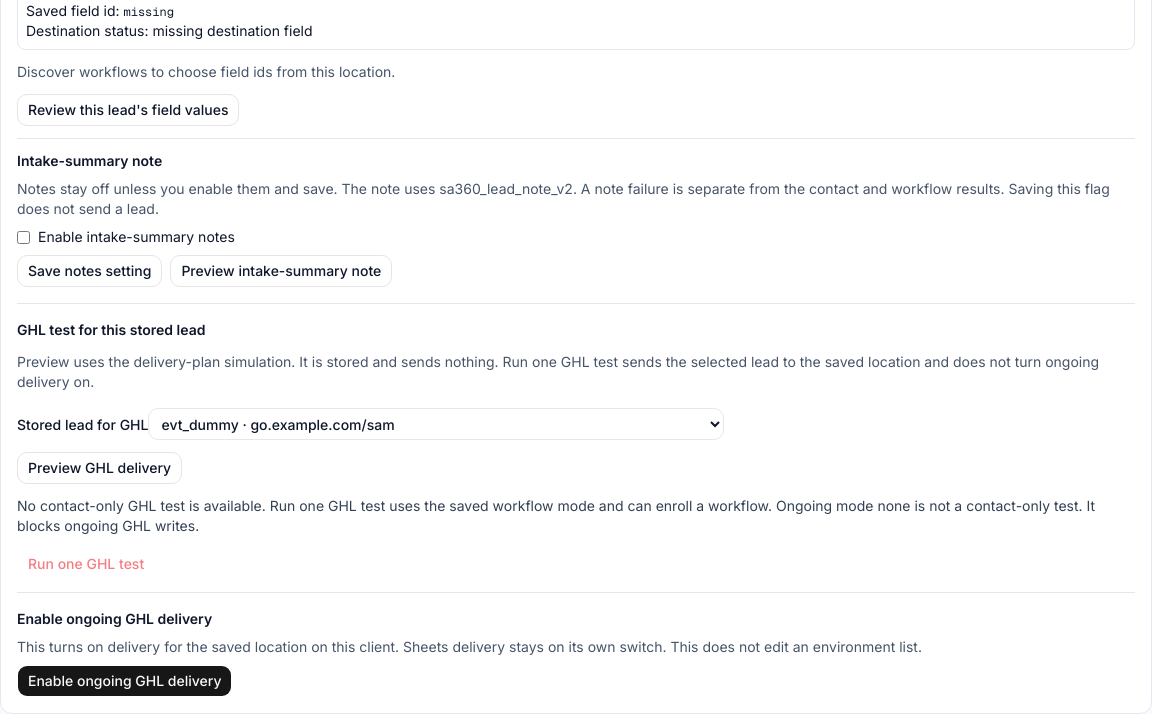
Test case: ongoing GHL activation is a separate confirmation and lists omitted fields
The width and height of the screenshot is (1152, 714).
(page scrolled)
Click the button "Enable ongoing GHL delivery" at (125, 681), box 17,665 -> 232,697
(page scrolled)
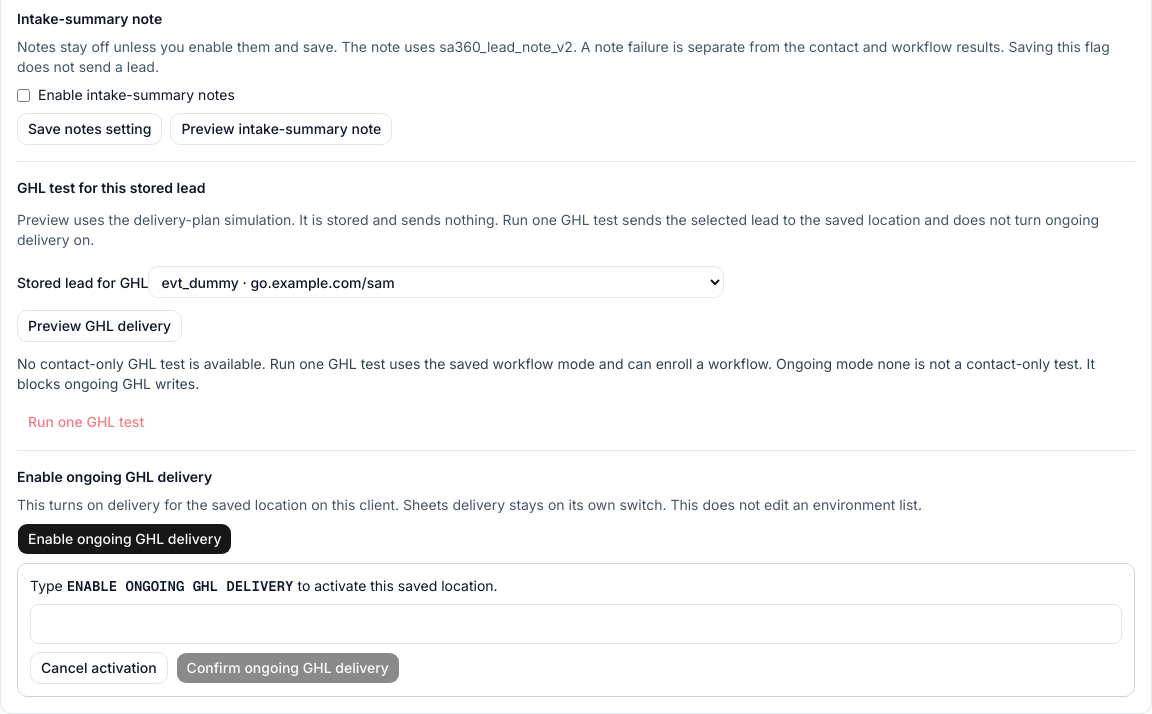
Type "ENABLE ONGOING GHL DELIVERY" into the field named "Ongoing GHL confirmation" at (576, 624), box 30,604 -> 1122,644
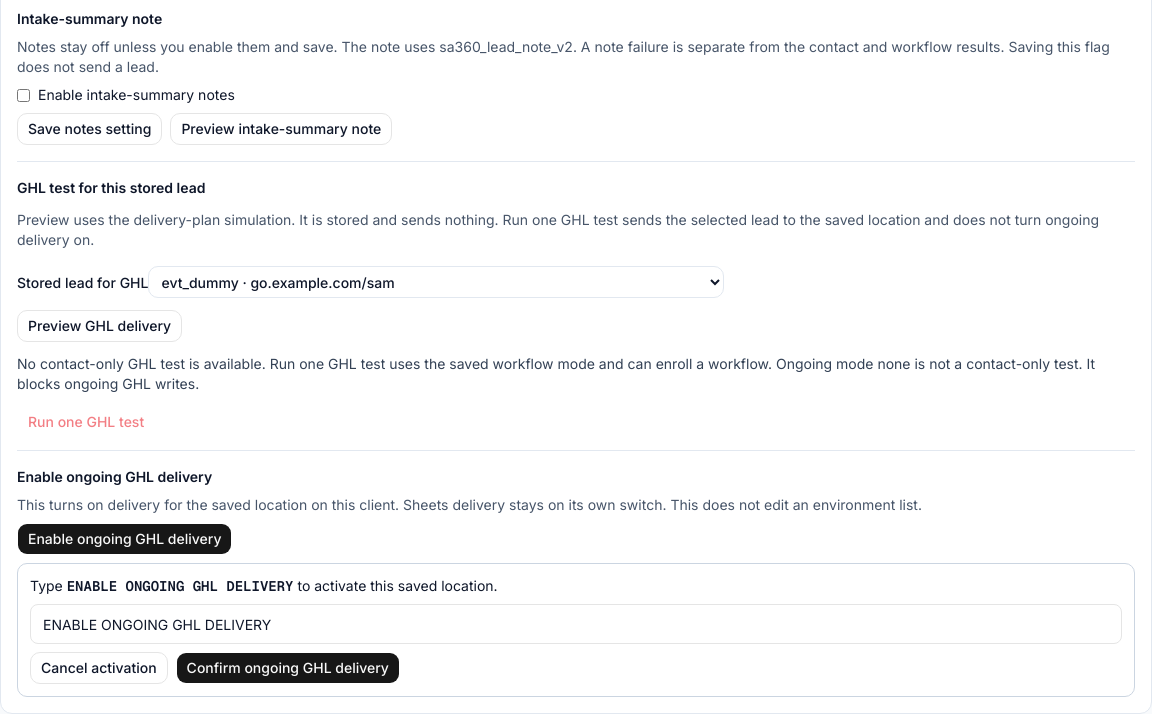
Click the button "Confirm ongoing GHL delivery" at (288, 668), box 176,652 -> 400,684
(page scrolled)
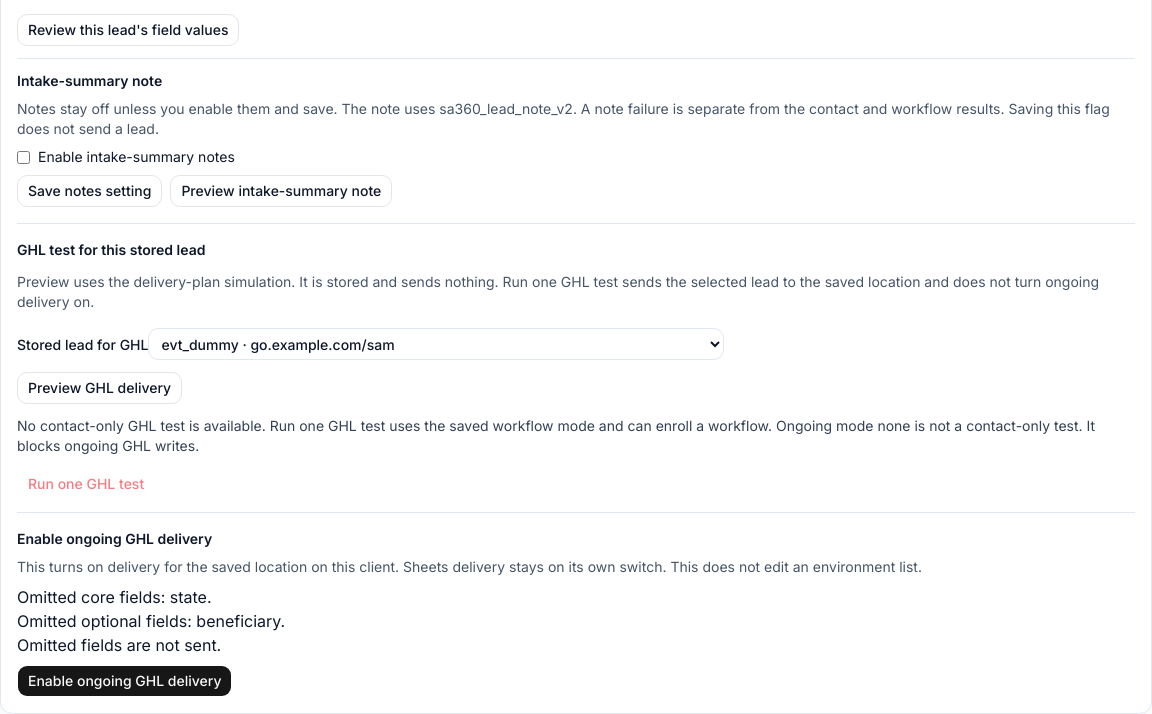
Now the element with test id "ghl-activation-omissions" is shown, box 17,587 -> 285,655
Now the element with test id "ghl-activation-omissions" shows "state", box 170,587 -> 207,607
Now the element with test id "ghl-activation-omissions" shows "Omitted fields are not sent", box 17,635 -> 221,655
